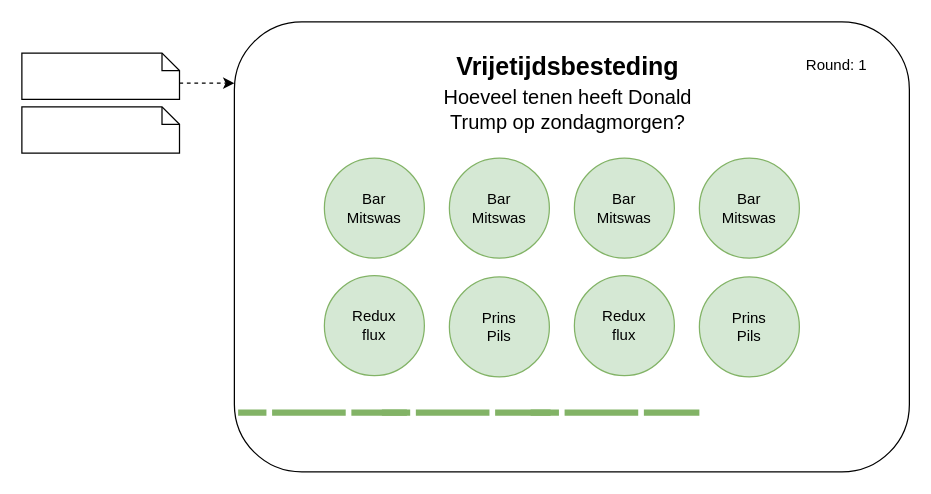
Image size: 931x494. Some labels were removed from this diagram. The shapes that lost their labels are listed below. From the top down, each one's box as (x1, y1, x2, y2) in pixels, then its label:
(21, 52, 180, 99): [WS] FETCH_ANSWERS
(21, 106, 180, 153): [WS] NEXT_QUESTION
